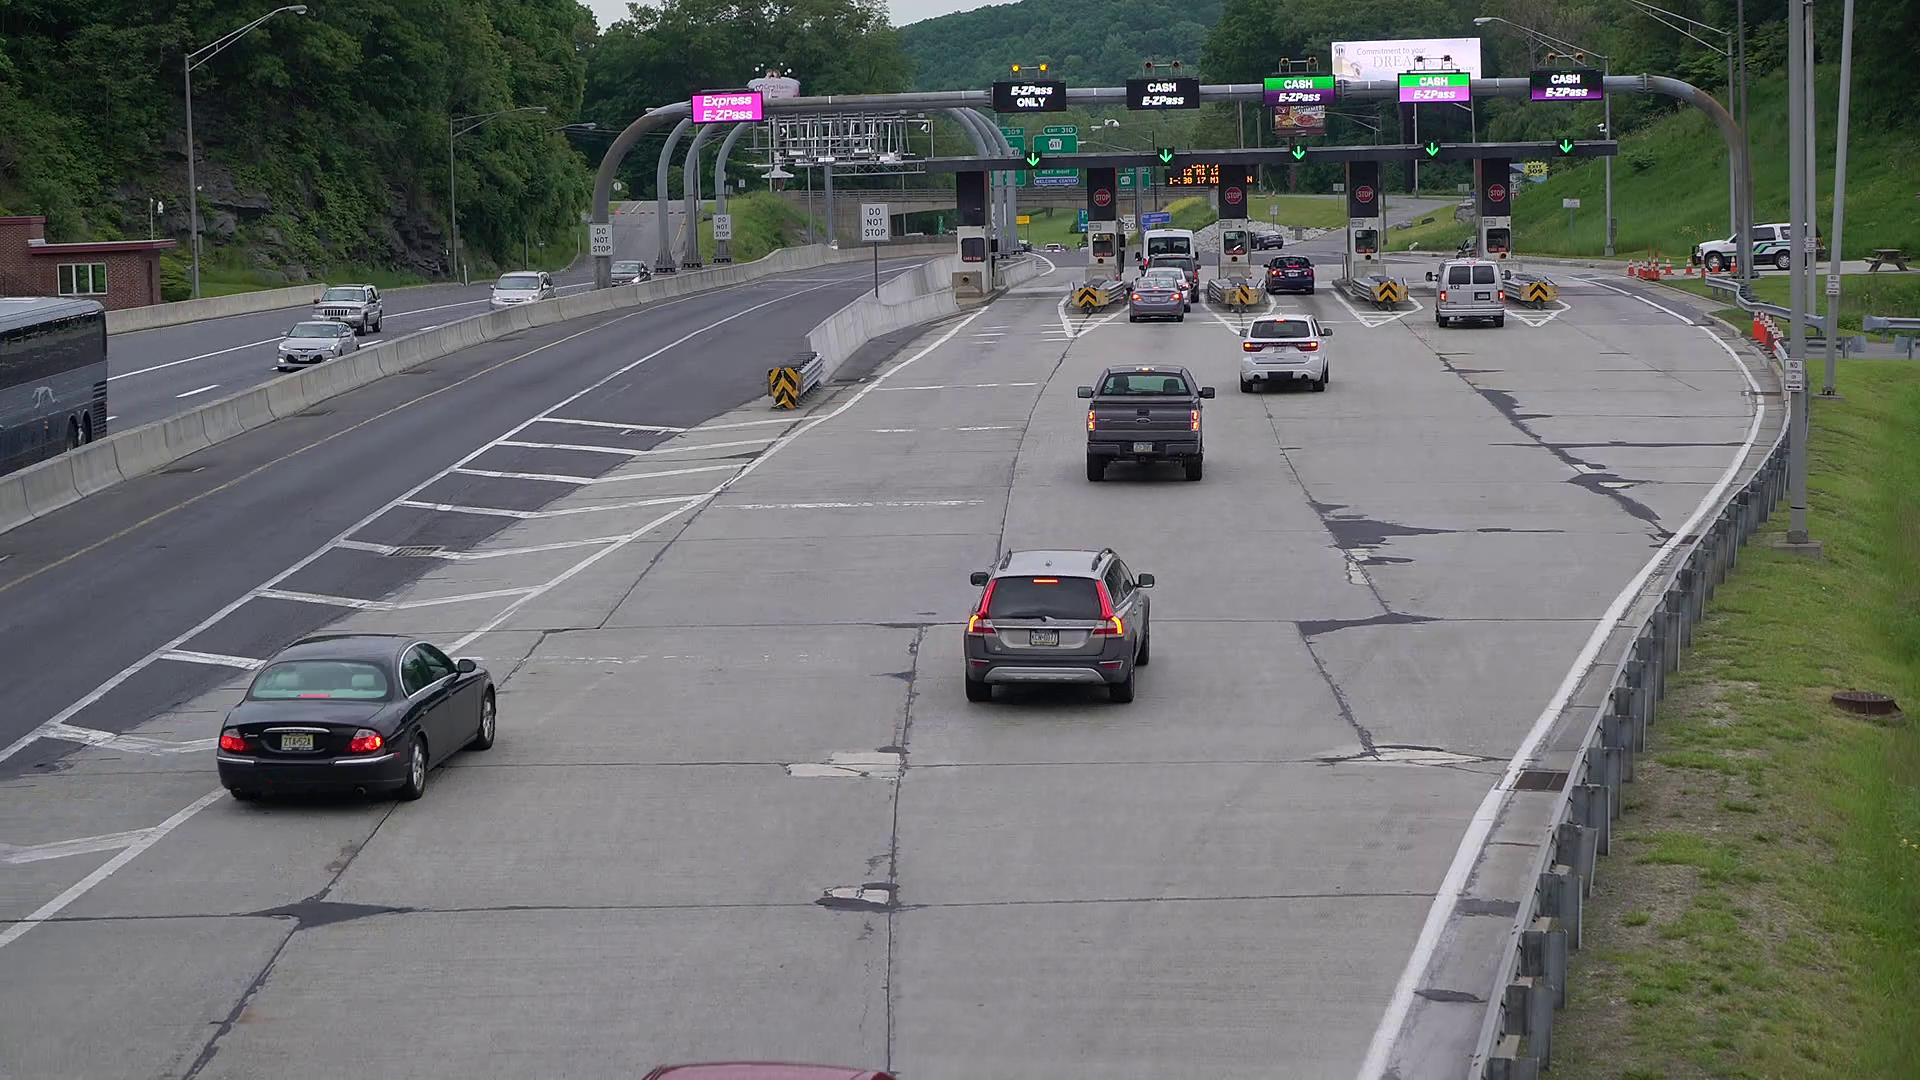car: (215, 600, 508, 820), (953, 533, 1164, 715), (1075, 357, 1217, 477), (1238, 315, 1336, 390), (1125, 272, 1185, 327), (1261, 247, 1319, 301), (1139, 252, 1200, 301)
mini van: (1429, 258, 1506, 323), (1135, 223, 1197, 285)
